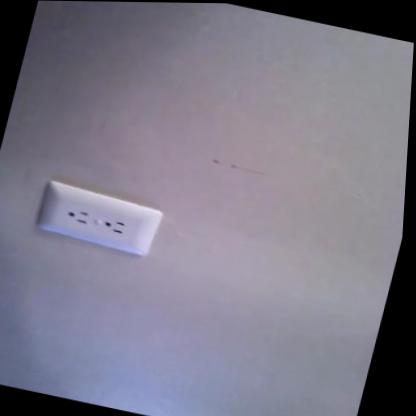OUTLET: (32, 184, 165, 255)
